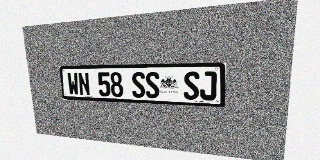5: (98, 72, 111, 97)
8: (110, 72, 123, 97)
J: (200, 71, 217, 101)
N: (78, 72, 90, 96)
S: (184, 71, 199, 100), (131, 72, 146, 98), (145, 72, 160, 98)
W: (67, 72, 79, 95)
